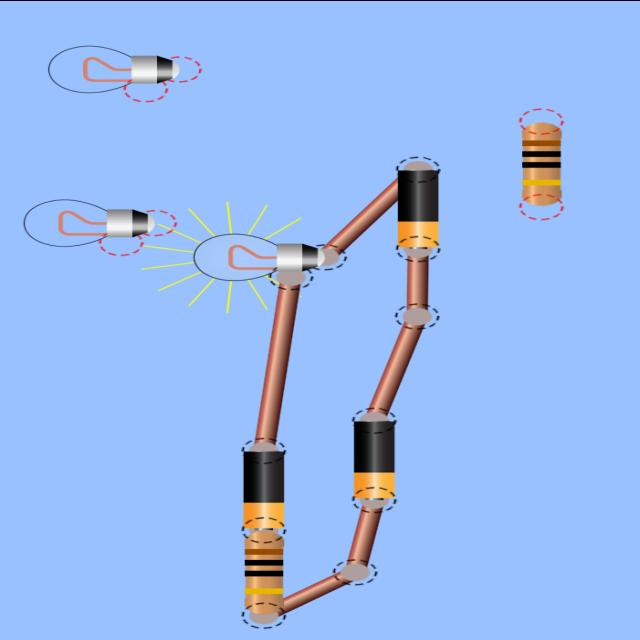Battery: (397, 169, 440, 246), (244, 449, 285, 528), (355, 420, 395, 498)
Light Bulb: (193, 232, 334, 280), (23, 198, 156, 246), (49, 45, 179, 92)
Resistor: (522, 121, 563, 205), (244, 530, 285, 614)
Wire: (255, 284, 299, 442), (326, 178, 396, 250), (370, 326, 422, 414), (282, 572, 348, 612), (348, 506, 381, 564), (408, 256, 429, 308)
